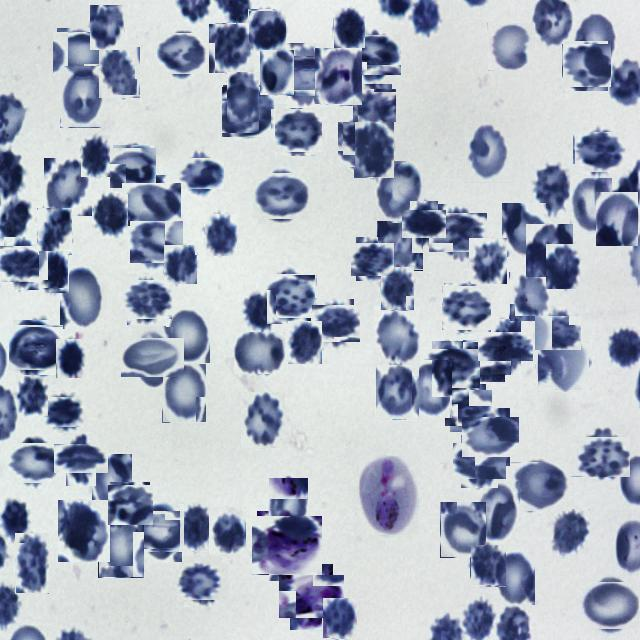difficult: (359, 456, 418, 535)
red blood cell: (58, 500, 110, 562), (583, 578, 639, 634), (373, 161, 423, 221), (513, 460, 567, 514), (60, 264, 104, 329), (538, 338, 590, 392), (98, 517, 144, 578), (44, 157, 92, 215), (314, 48, 362, 106), (282, 49, 334, 102), (60, 66, 104, 128), (374, 306, 420, 365), (127, 332, 179, 384), (255, 170, 307, 222), (126, 178, 178, 230), (476, 481, 520, 542), (222, 86, 274, 137), (465, 123, 509, 183), (574, 8, 616, 70), (136, 507, 187, 558), (162, 364, 206, 423), (440, 502, 486, 558), (240, 392, 285, 449), (166, 304, 210, 362), (375, 364, 419, 421), (10, 322, 60, 372), (264, 271, 314, 321), (576, 432, 626, 482), (340, 120, 390, 170), (526, 224, 573, 277), (433, 208, 482, 258), (9, 439, 58, 488), (55, 30, 104, 79), (466, 412, 514, 462), (502, 203, 546, 257), (348, 31, 397, 79), (570, 176, 612, 232), (208, 23, 254, 74), (412, 360, 452, 418), (272, 106, 320, 154), (487, 23, 535, 71), (442, 284, 490, 332), (428, 345, 476, 393), (132, 218, 180, 266), (377, 220, 423, 270), (494, 549, 535, 605), (596, 192, 638, 246), (92, 454, 132, 510), (354, 122, 394, 178), (576, 129, 623, 176), (268, 478, 308, 533), (98, 47, 140, 99), (234, 332, 285, 374), (159, 31, 205, 77), (564, 42, 610, 88), (509, 272, 551, 322), (15, 533, 49, 594), (457, 439, 502, 484), (124, 277, 169, 322), (180, 560, 226, 604), (530, 166, 568, 219), (550, 509, 590, 559), (0, 242, 44, 286), (112, 146, 155, 190), (108, 483, 152, 526), (314, 302, 357, 345), (447, 387, 489, 429), (466, 337, 508, 379), (60, 438, 102, 480), (485, 326, 527, 368), (469, 238, 507, 284), (209, 507, 246, 554), (248, 9, 286, 53), (37, 208, 72, 255), (538, 314, 579, 354), (179, 504, 213, 552), (227, 72, 259, 122), (94, 194, 128, 239), (546, 244, 580, 289), (260, 50, 294, 95), (90, 5, 124, 50), (240, 290, 276, 332), (470, 544, 506, 586), (380, 267, 414, 311), (356, 86, 394, 125), (288, 321, 322, 364), (182, 154, 220, 192), (354, 240, 392, 278), (322, 598, 357, 639), (204, 214, 237, 257), (163, 245, 197, 285), (38, 251, 69, 294), (333, 8, 365, 49), (0, 498, 29, 543), (406, 206, 442, 242), (46, 394, 82, 430), (16, 376, 48, 416), (81, 135, 110, 177), (56, 339, 86, 378)
trophozoite: (255, 514, 320, 578), (284, 570, 338, 624)
